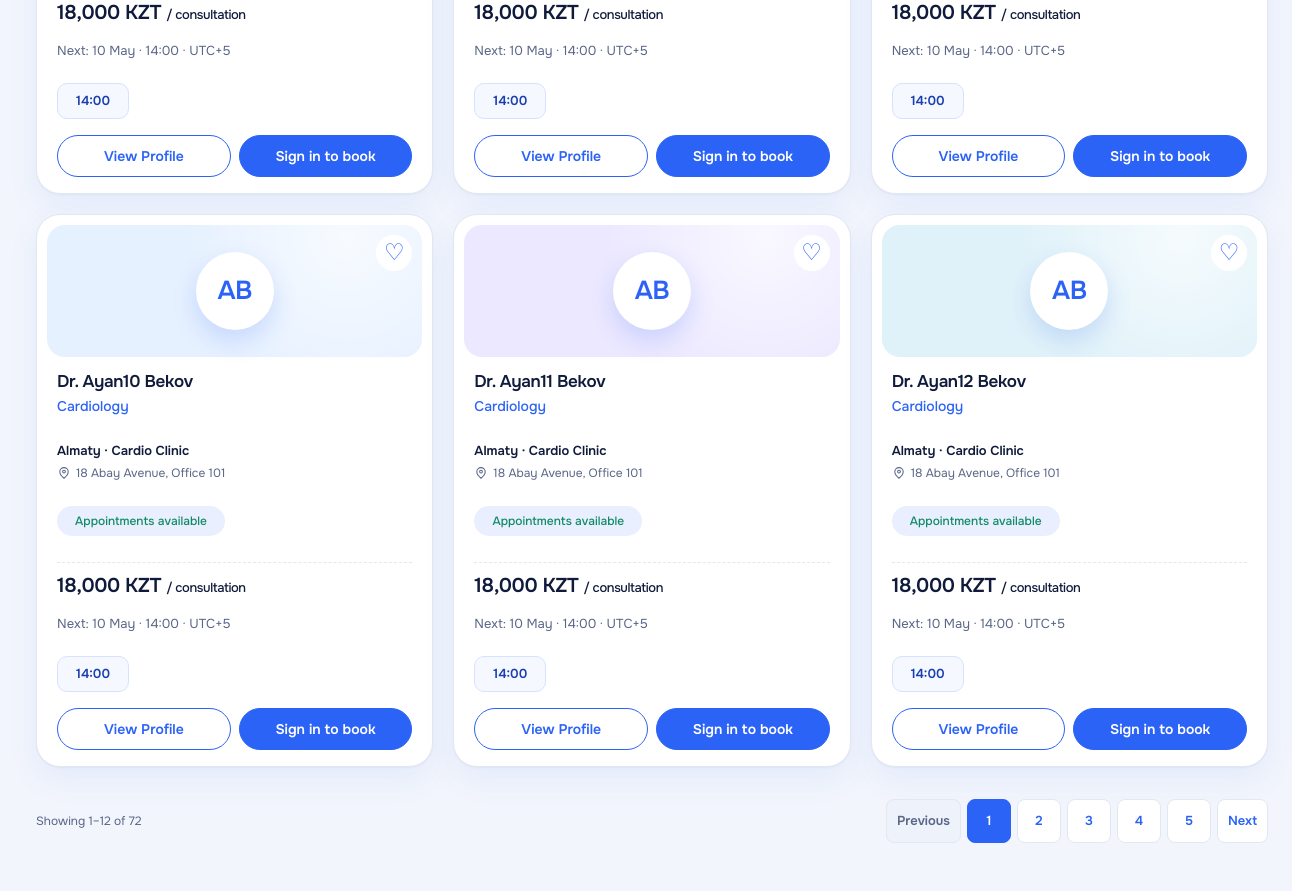
Scenario: doctor discovery and cards › keeps pagination compact for large doctor directories
(page scrolled)
Check: the number of buttons "1" is 5, box [967, 799, 1011, 843]; [1017, 799, 1061, 843]; [1067, 799, 1111, 843]; [1117, 799, 1161, 843]; [1167, 799, 1211, 843]
Click the button "Next": (1242, 821) [1217, 799, 1268, 843]
(page scrolled)
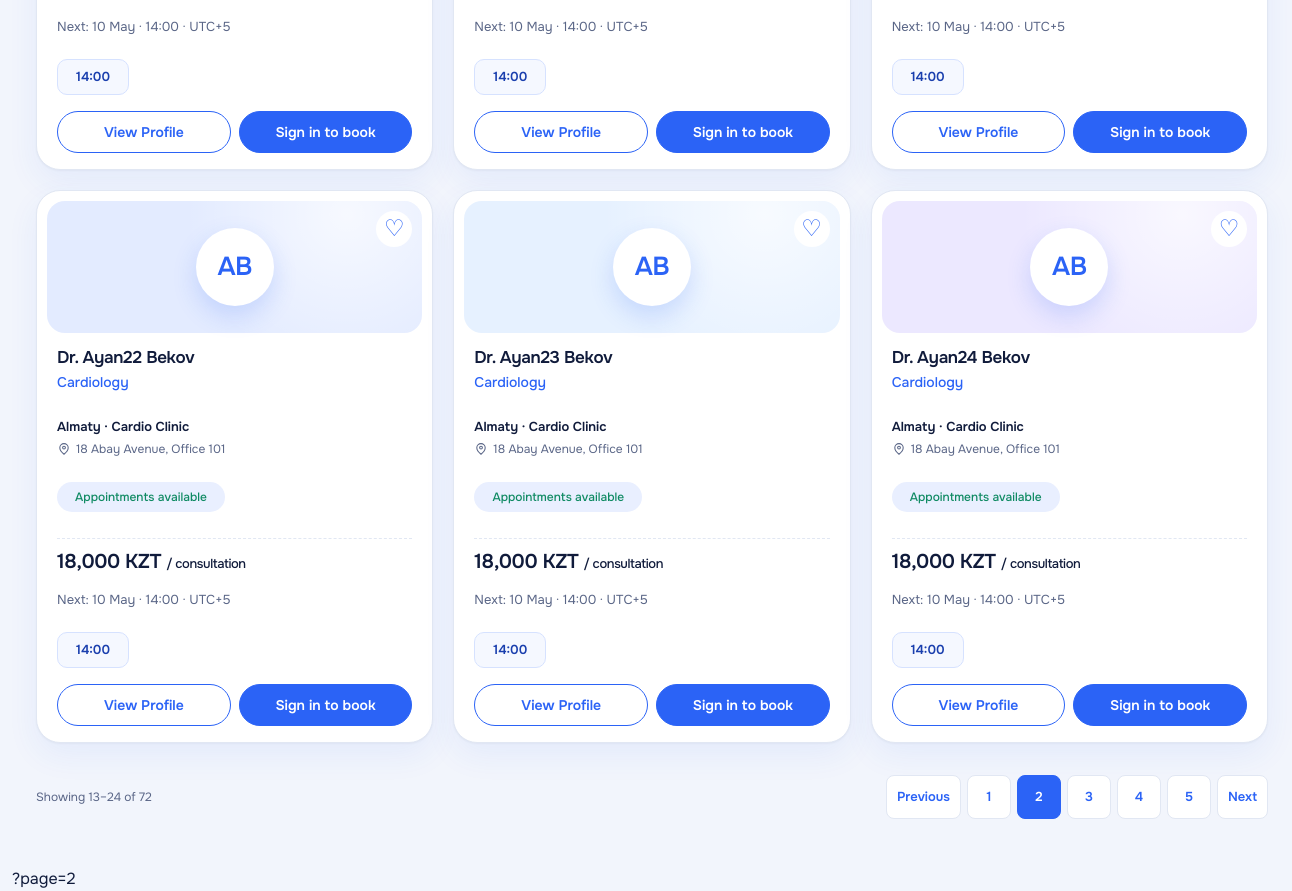
Check: the text named "Current search parameters" reads "?page=2", box [12, 868, 76, 889]
